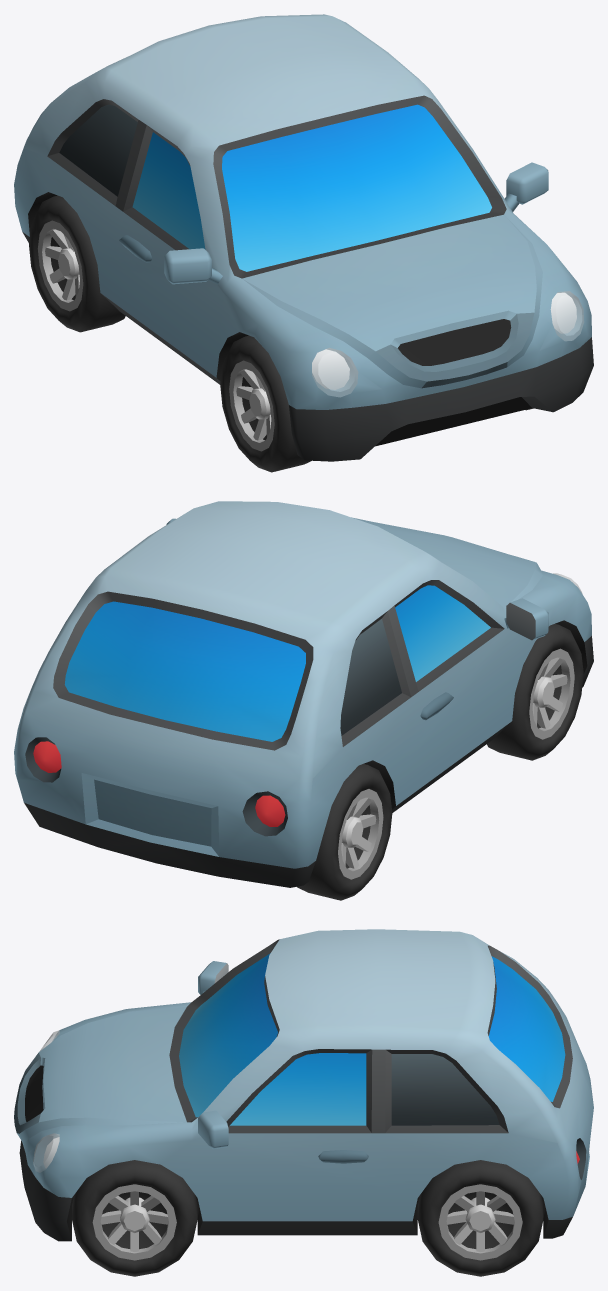
Rendered from Car_06.glb.
3 renders of one model, top to bottom at view 1: azimuth 30°, elevation 25°; view 2: azimuth 150°, elevation 25°; view 3: azimuth 270°, elevation 25°, orthographic. The views are drawn at different scales.
Visible parts, largest first — view 1: Car_06, Car_06_Wheel_Rear_Right, Car_06_Wheel_Front_Right; view 2: Car_06, Car_06_Wheel_Rear_Right, Car_06_Wheel_Front_Right; view 3: Car_06, Car_06_Wheel_Rear_Left, Car_06_Wheel_Front_Left.
Boxes of the visible parts, x1=… form: Car_06: x1=14, y1=14, x2=593, y2=461; Car_06_Wheel_Rear_Right: x1=29, y1=195, x2=125, y2=332; Car_06_Wheel_Front_Right: x1=220, y1=335, x2=311, y2=472; Car_06: x1=14, y1=501, x2=593, y2=887; Car_06_Wheel_Rear_Right: x1=297, y1=764, x2=392, y2=900; Car_06_Wheel_Front_Right: x1=487, y1=624, x2=583, y2=760; Car_06: x1=14, y1=929, x2=593, y2=1241; Car_06_Wheel_Rear_Left: x1=417, y1=1160, x2=543, y2=1276; Car_06_Wheel_Front_Left: x1=72, y1=1160, x2=197, y2=1276.
Bounding box in the file's own units: 2.53 × 1.73 × 3.69.
6 materials, 6 textured.
